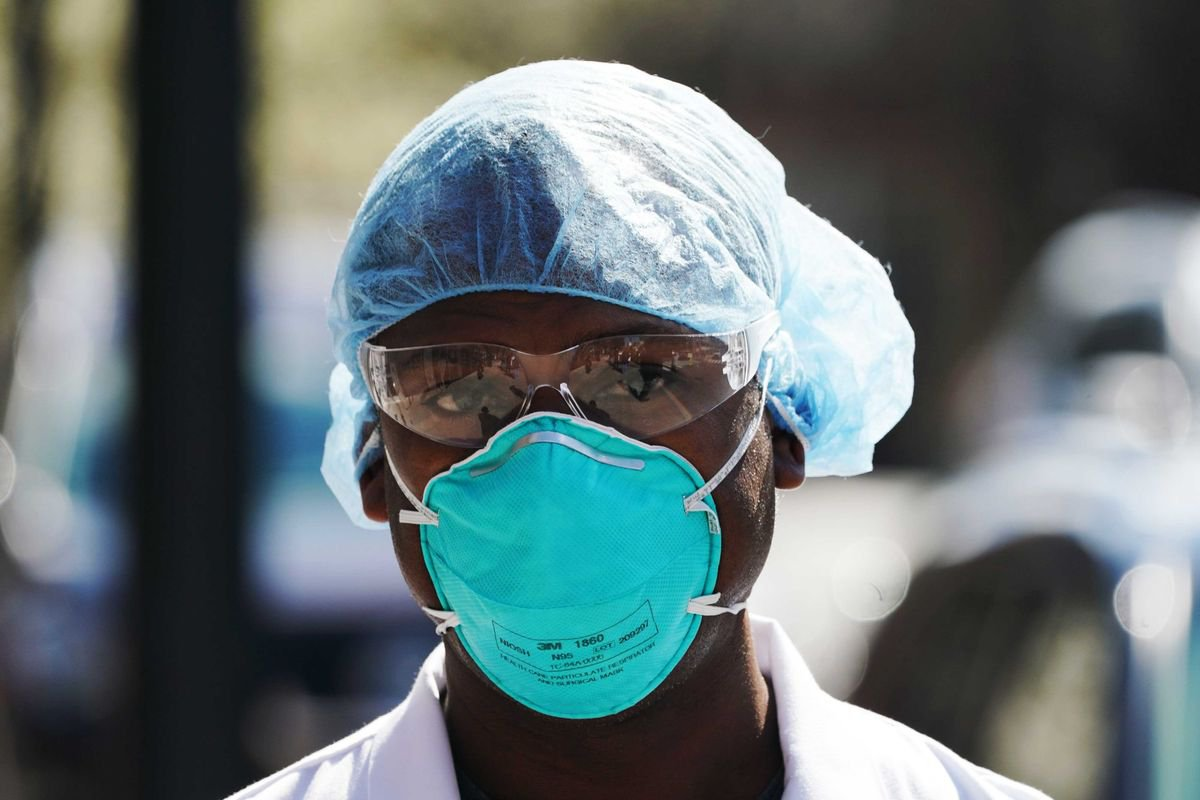mask: (321, 62, 906, 712)
